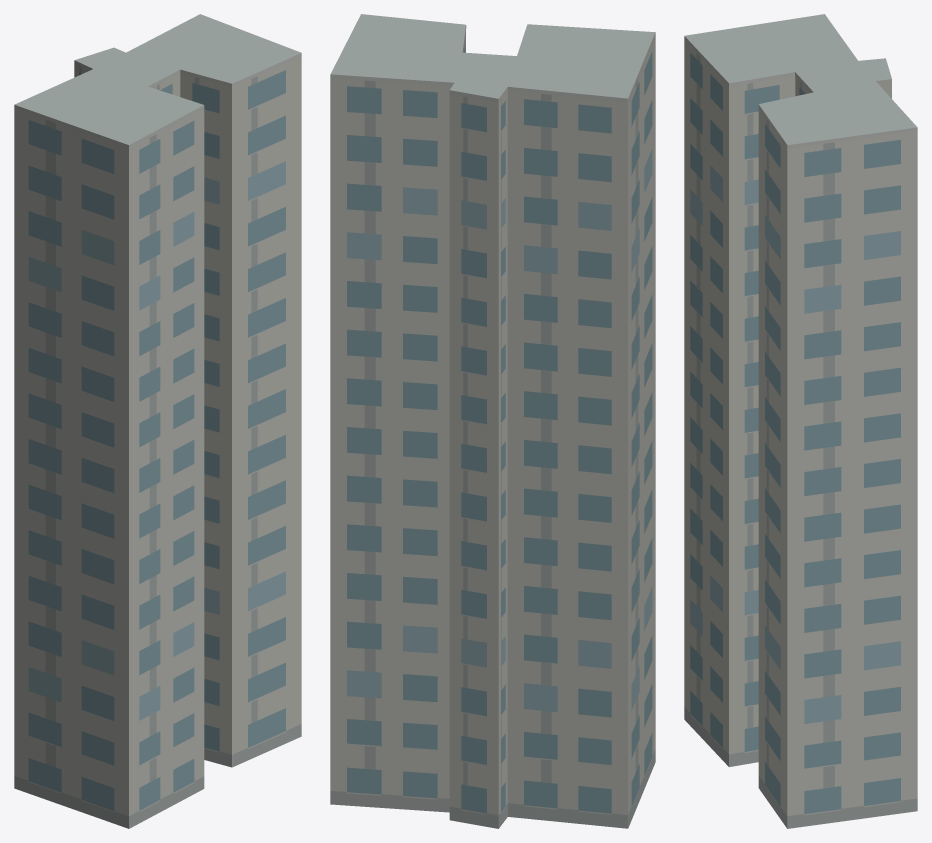
Rendered from survey-upis-32850426.glb.
The picture shows the model from 3 angles, left to right: view 1: azimuth 30°, elevation 25°; view 2: azimuth 150°, elevation 25°; view 3: azimuth 270°, elevation 25°; orthographic projection. The views are drawn at different scales.
Visible parts, largest first — view 1: survey-upis-32850426.tmp; view 2: survey-upis-32850426.tmp; view 3: survey-upis-32850426.tmp.
Boxes of the visible parts, x1,y1,x2,y2 form: survey-upis-32850426.tmp: (14, 14, 301, 828); survey-upis-32850426.tmp: (330, 14, 655, 828); survey-upis-32850426.tmp: (684, 14, 917, 828).
Size of the model in its own units: 18.83 by 45.75 by 14.16.
